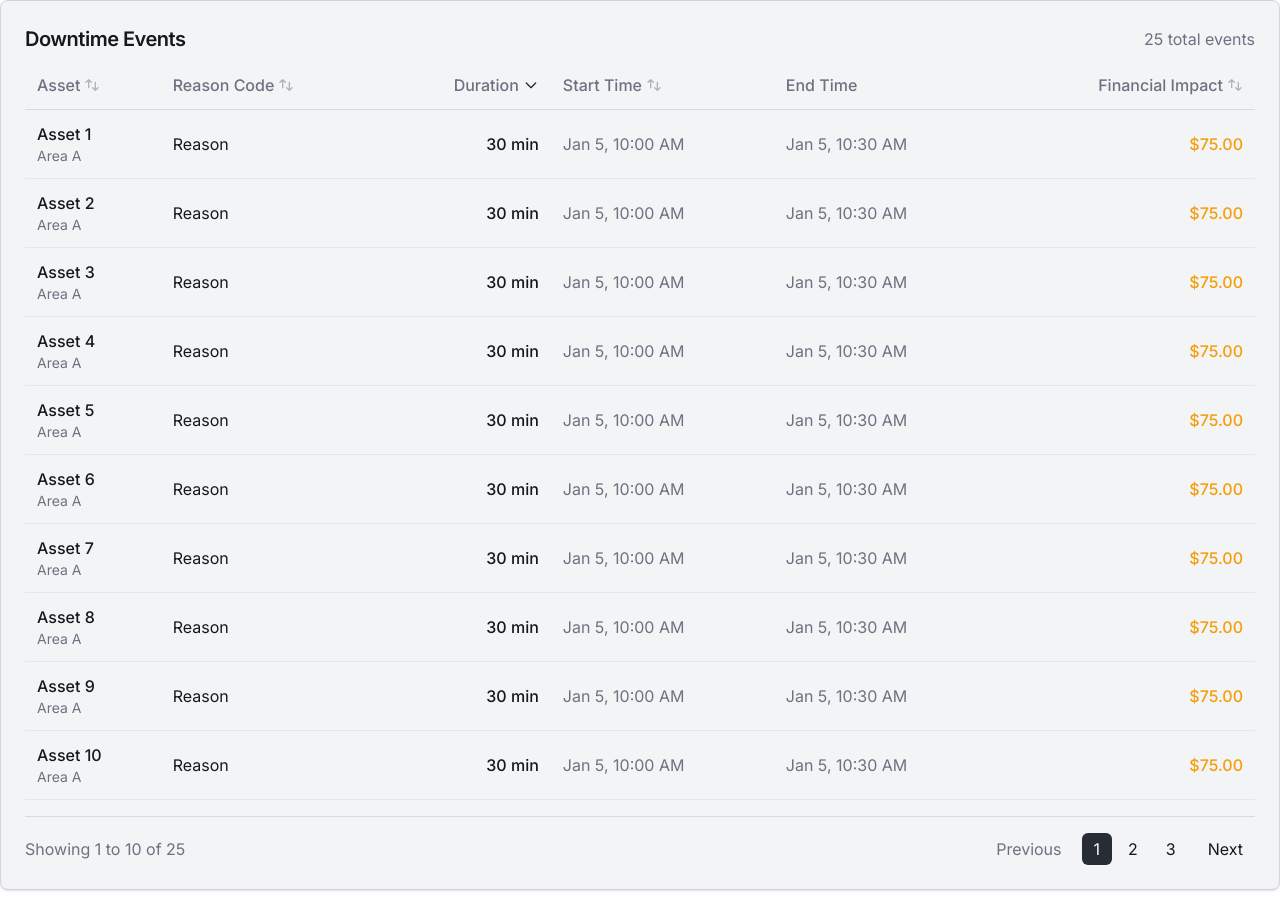
Test: DowntimeTable Pagination › navigates to next page
Click the button "Next" at (1225, 849), box [1196,833,1255,865]
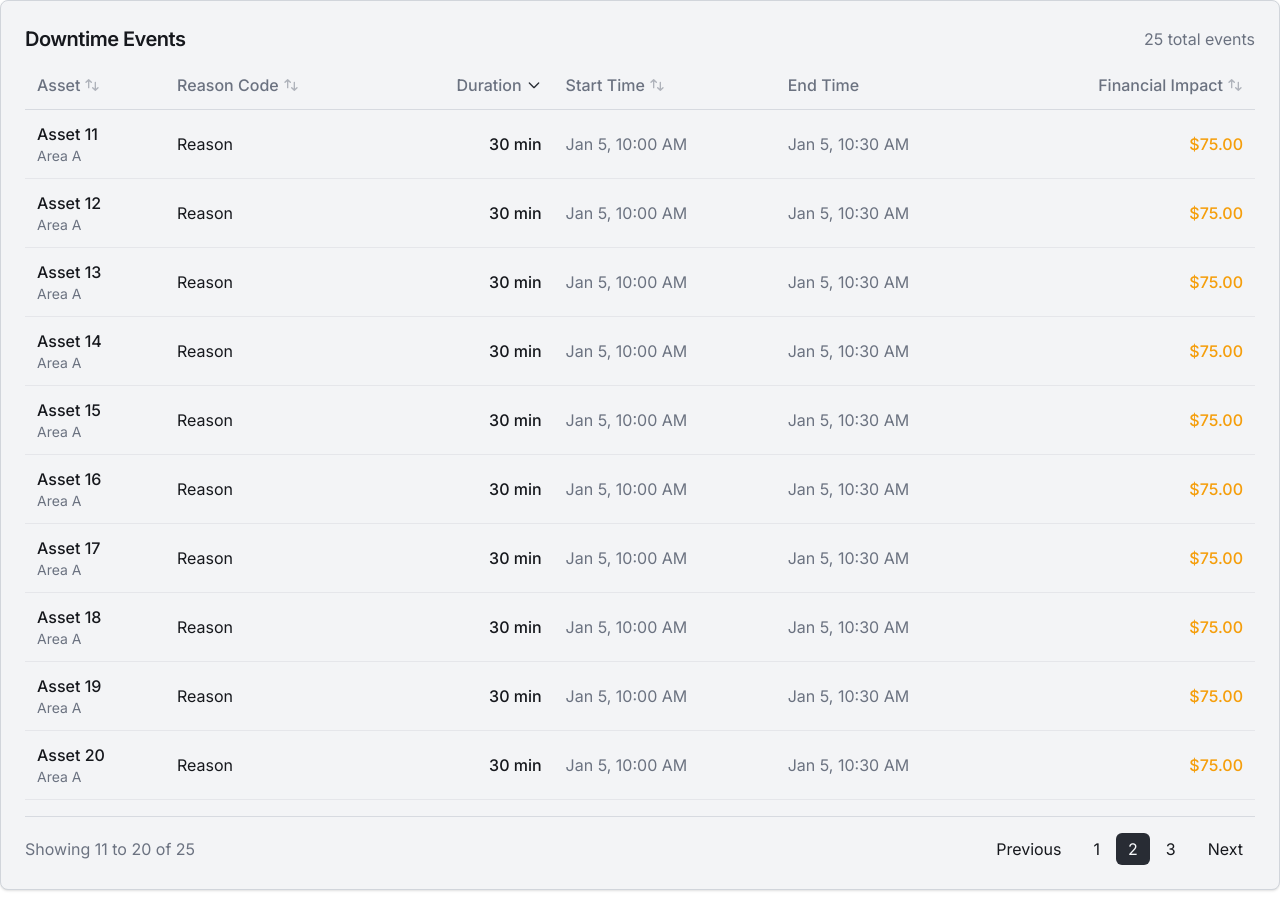
Expected: the text "Showing 11 to 20 of 25" is shown, [25,837,195,861]
